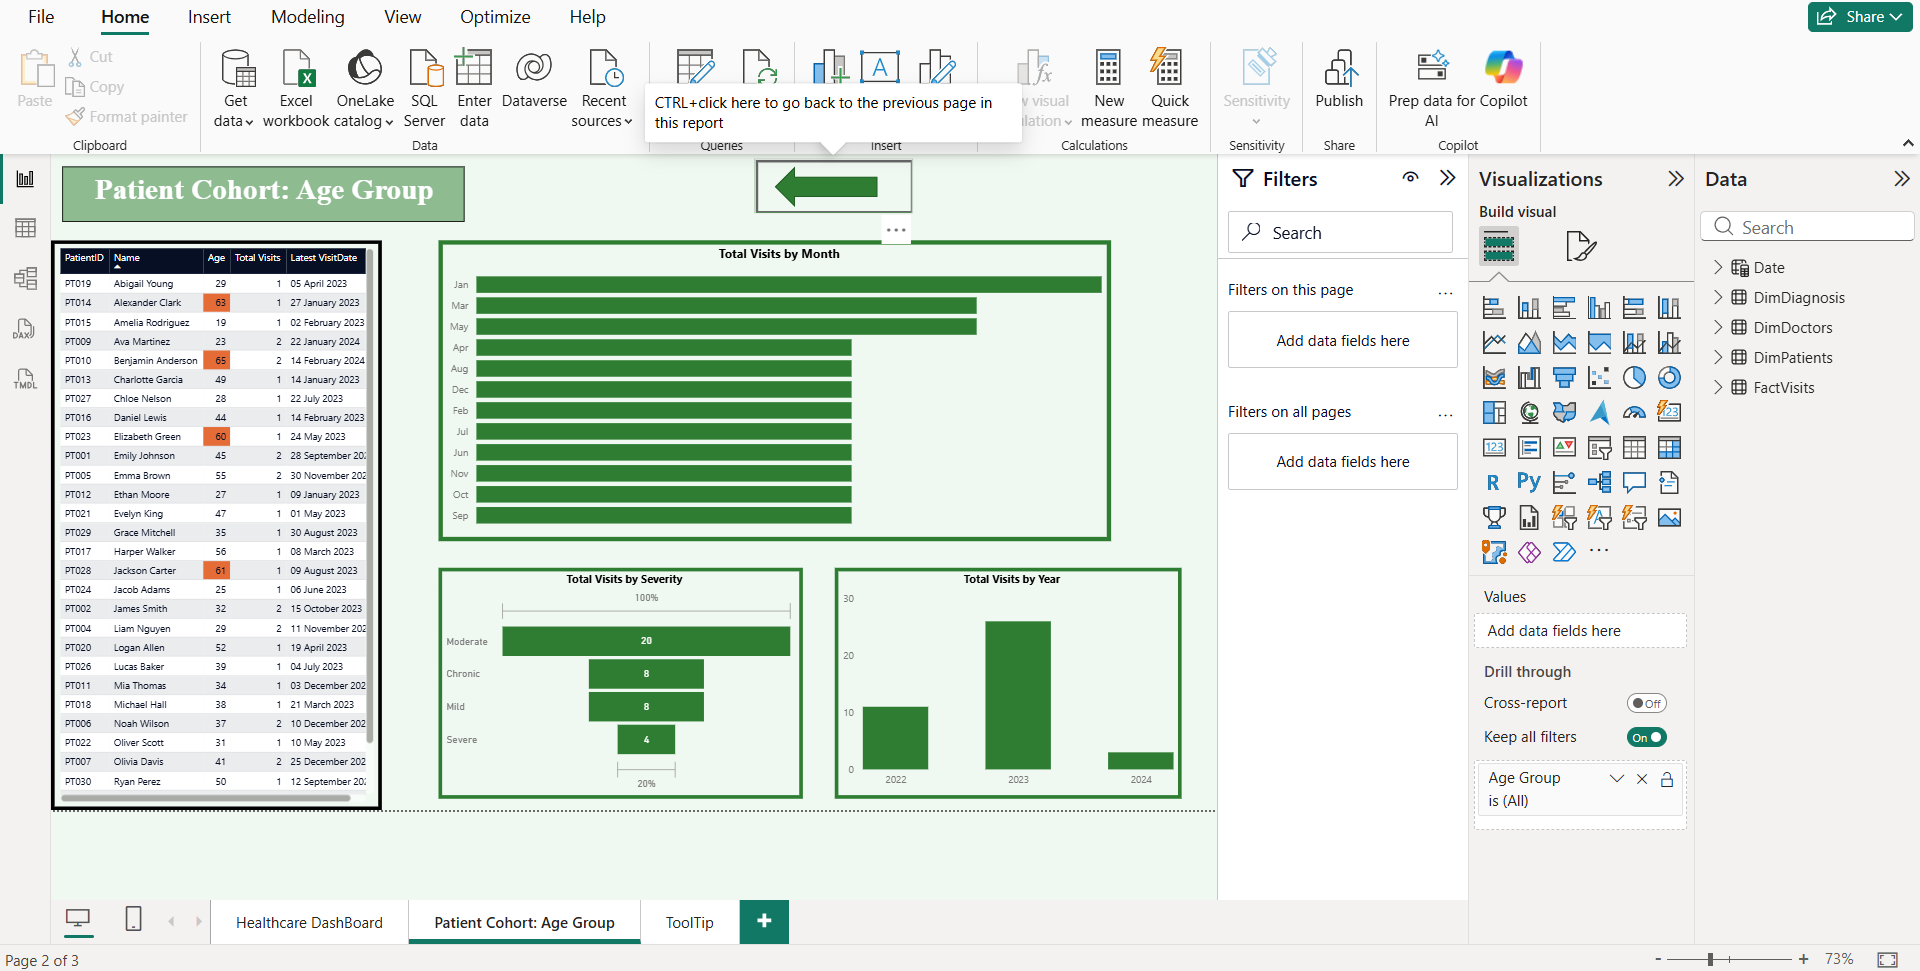

The dashboard page shown, as its layout file describes it:
{"tool":"powerbi","page":{"name":"Patient Cohort: Age Group","canvas":[1280,720],"ordinal":1},"visuals":[{"type":"tableEx","fields":{"Values":["DimPatients.PatientID","DimPatients.Name","DimPatients.Age","FactVisits.Total Visits","FactVisits.VisitDate"]},"box":[0,94.9,363.3,625.8],"z":0},{"type":"barChart","fields":{"Y":["FactVisits.Total Visits"],"Category":["Date.Month"]},"box":[425.6,94.9,738.5,330.7],"z":1000},{"type":"columnChart","fields":{"Y":["FactVisits.Total Visits"],"Category":["Date.Date Hierarchy.Year","Date.Date Hierarchy.Quarter","Date.Date Hierarchy.Month","Date.Date Hierarchy.Day"]},"box":[860.1,453.8,381.1,253.6],"z":2000},{"type":"funnel","fields":{"Category":["DimDiagnosis.Severity"],"Y":["FactVisits.Total Visits"]},"box":[425.6,453.8,400.4,253.6],"z":3000},{"type":"textbox","box":[11.9,13.3,441.9,60.8],"z":4000},{"type":"shape","box":[794.8,13.3,112.7,44.5],"z":5000},{"type":"actionButton","box":[772.6,5.9,173.5,59.3],"z":6000}]}

Visuals, with their boxes on the page's 1280x720 design canvas (x1, y1, x2, y2). These are canvas units, not pixel positions in the 1920x971 screenshot, which may show the page scaled, cropped or inside an application window:
tableEx - DimPatients.PatientID x DimPatients.Name: 0, 95, 363, 721
barChart - FactVisits.Total Visits x Date.Month: 426, 95, 1164, 426
columnChart - FactVisits.Total Visits x Date.Date Hierarchy.Year: 860, 454, 1241, 707
funnel - DimDiagnosis.Severity x FactVisits.Total Visits: 426, 454, 826, 707
textbox: 12, 13, 454, 74
shape: 795, 13, 908, 58
actionButton: 773, 6, 946, 65
